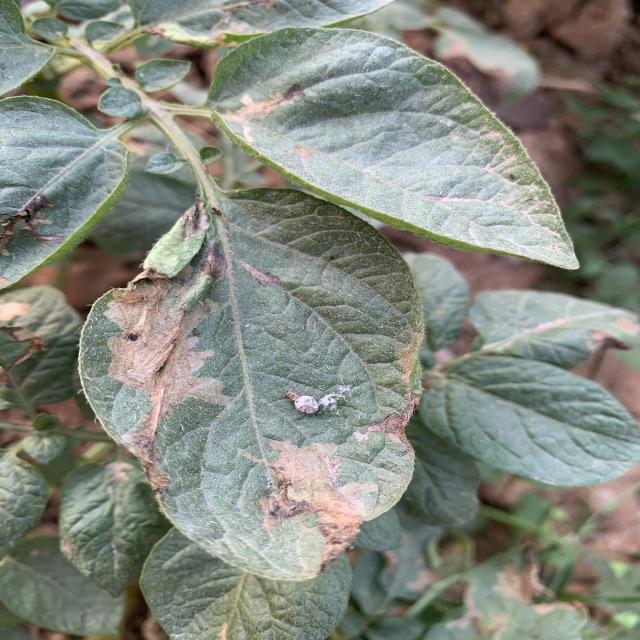lateblight: (103, 274, 230, 491), (238, 439, 378, 569), (352, 345, 420, 454)
